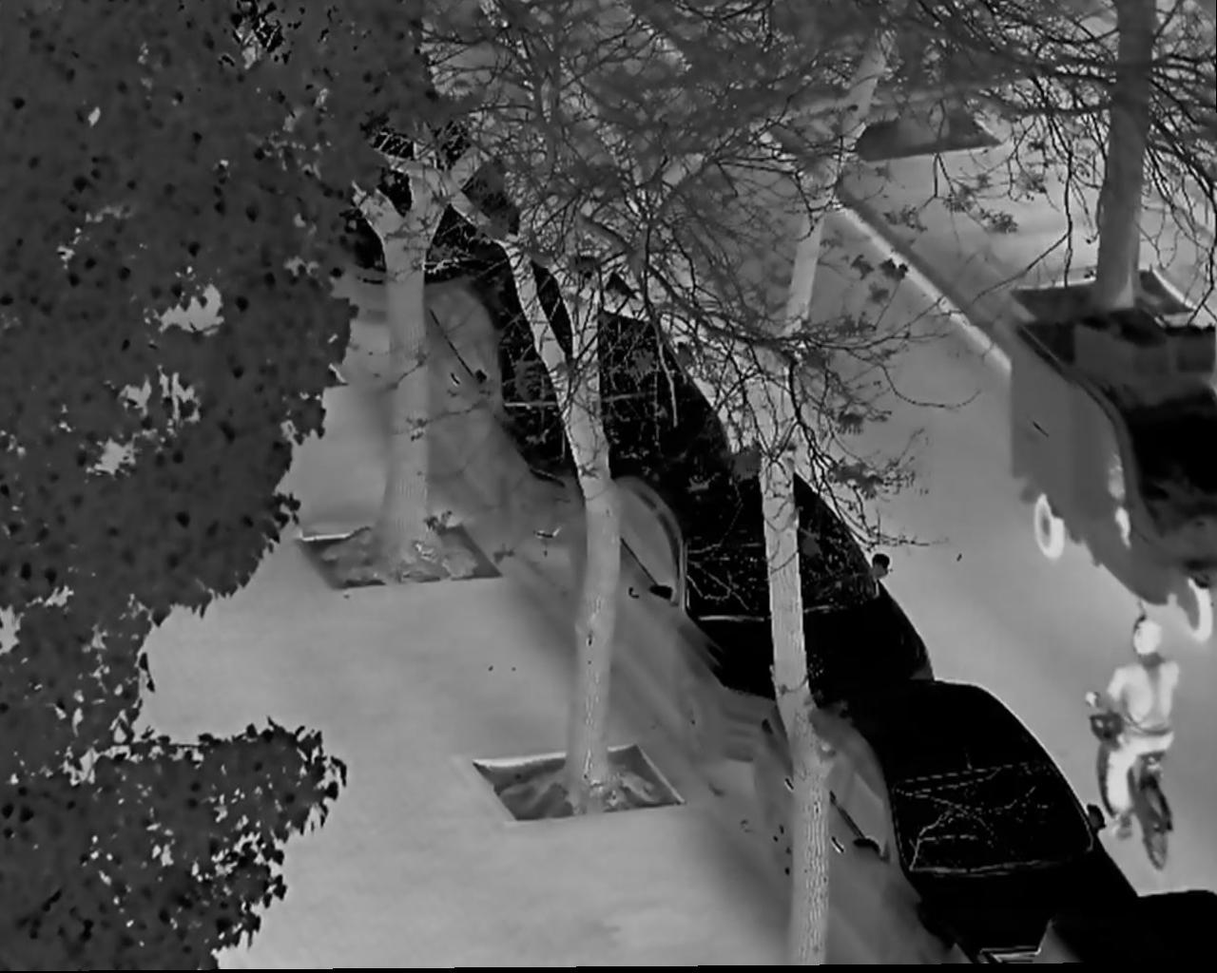person: (1078, 608, 1179, 836)
